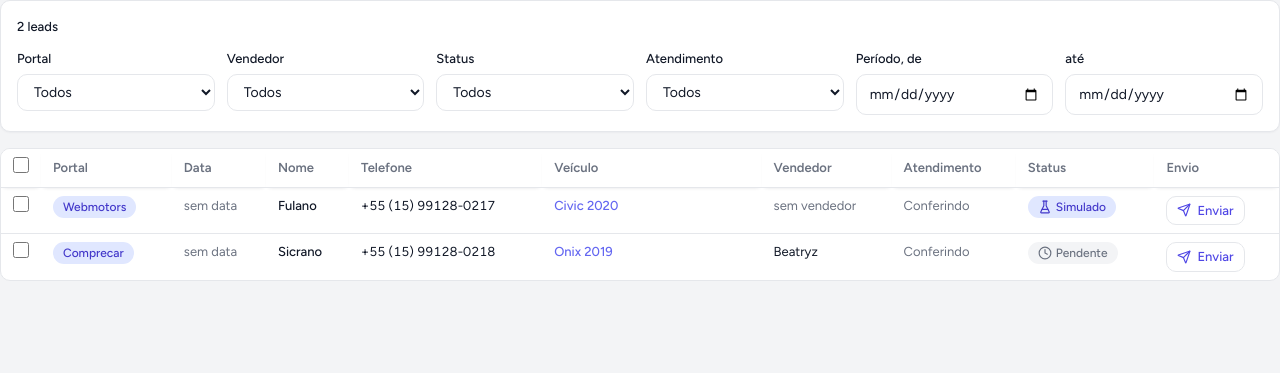
Test: tela de leads: selecao para o envio em lote › marcar uma linha abre a barra do lote com a contagem
This screenshot has width=1280, height=373.
Check: the text "Fulano" is shown, box [266,188,349,234]
Click the checkbox named "selecionar lead 1".
click(21, 204)  # box [13,196,29,212]
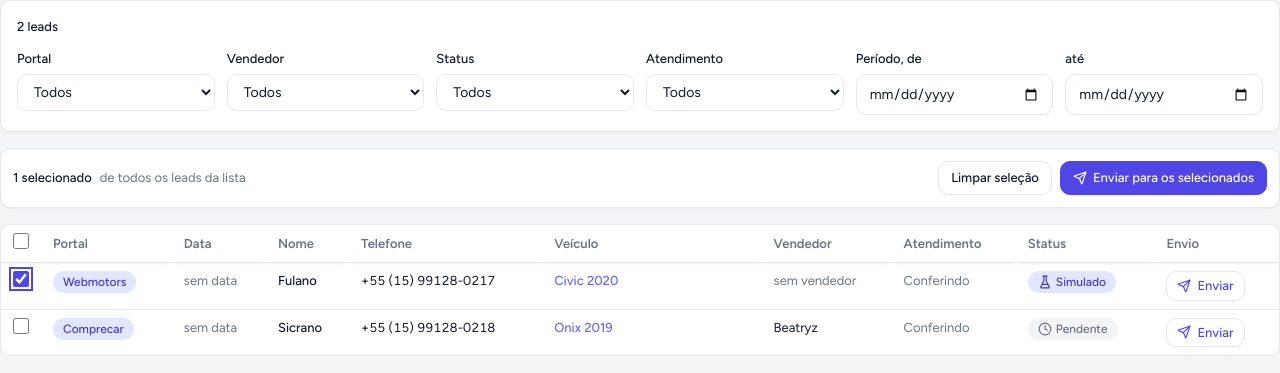
Check: the text "1 selecionado" is shown, box [13,170,92,185]
Check: the button "Enviar para os selecionados" is shown, box [1060,161,1267,194]
